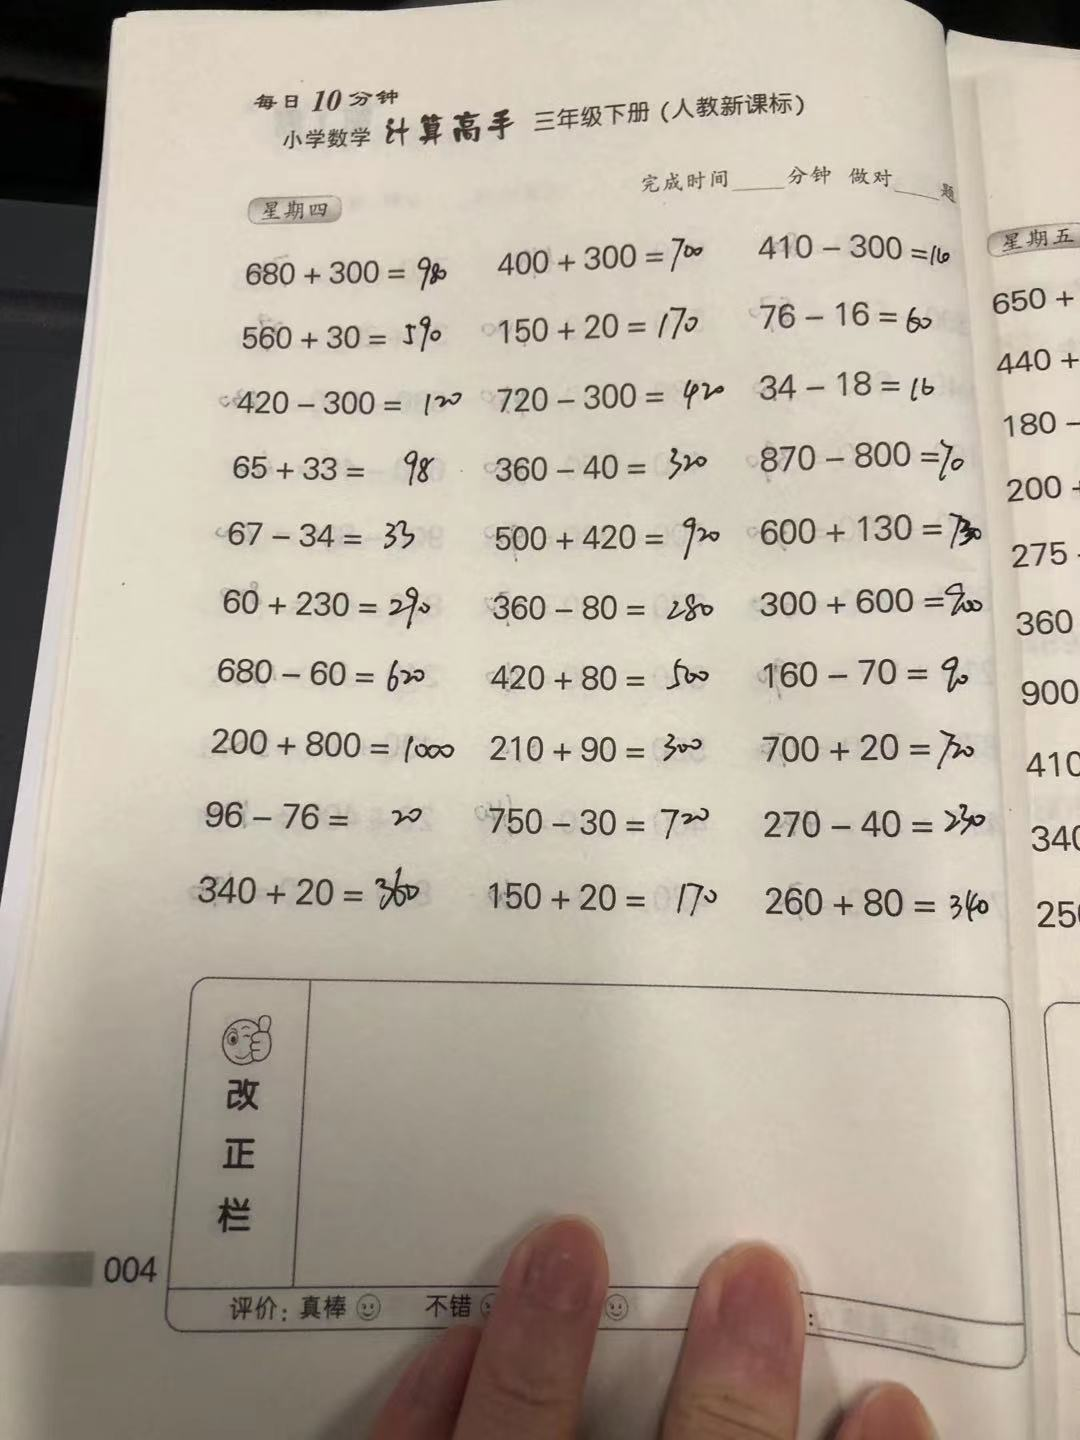equation: (481, 871, 741, 935), (204, 713, 461, 776), (480, 795, 718, 858), (194, 863, 447, 921), (222, 372, 481, 425), (760, 872, 1003, 929), (484, 507, 726, 564), (761, 795, 995, 853), (192, 793, 447, 845), (221, 439, 470, 492), (235, 245, 464, 302), (751, 649, 992, 701), (482, 718, 723, 770), (212, 643, 433, 700), (753, 506, 998, 557), (210, 510, 462, 558), (483, 579, 729, 627), (212, 577, 439, 627), (752, 438, 970, 489), (482, 444, 724, 490), (744, 223, 968, 272), (481, 654, 719, 700), (757, 725, 986, 771), (761, 359, 953, 414), (758, 579, 999, 622), (492, 375, 741, 416), (491, 235, 715, 277), (753, 293, 951, 338), (487, 310, 719, 347), (241, 317, 454, 351)
